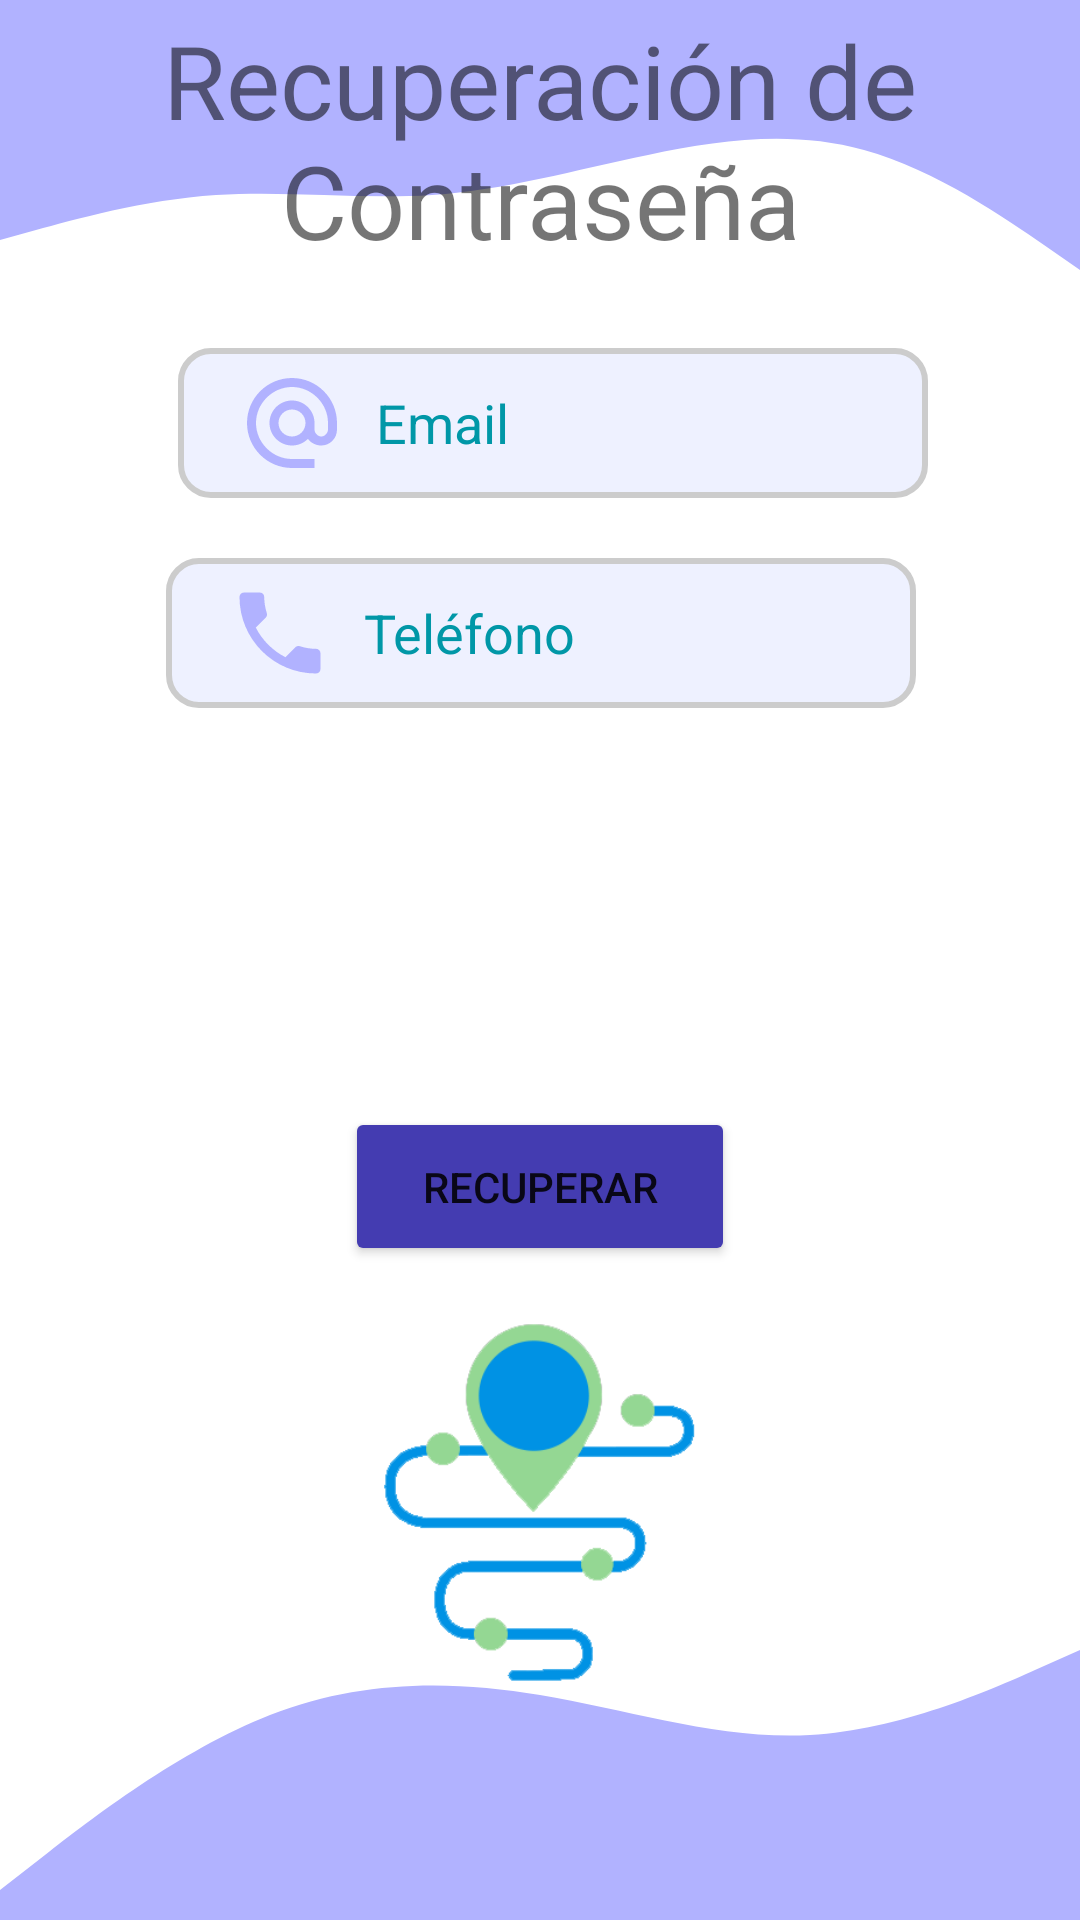

Where icons sit on this 1080w x 1920h app screen, as {"x1": x1, "y1": y1, "x2": x2, "y2": y2}:
ruta: {"x1": 384, "y1": 1324, "x2": 695, "y2": 1681}
